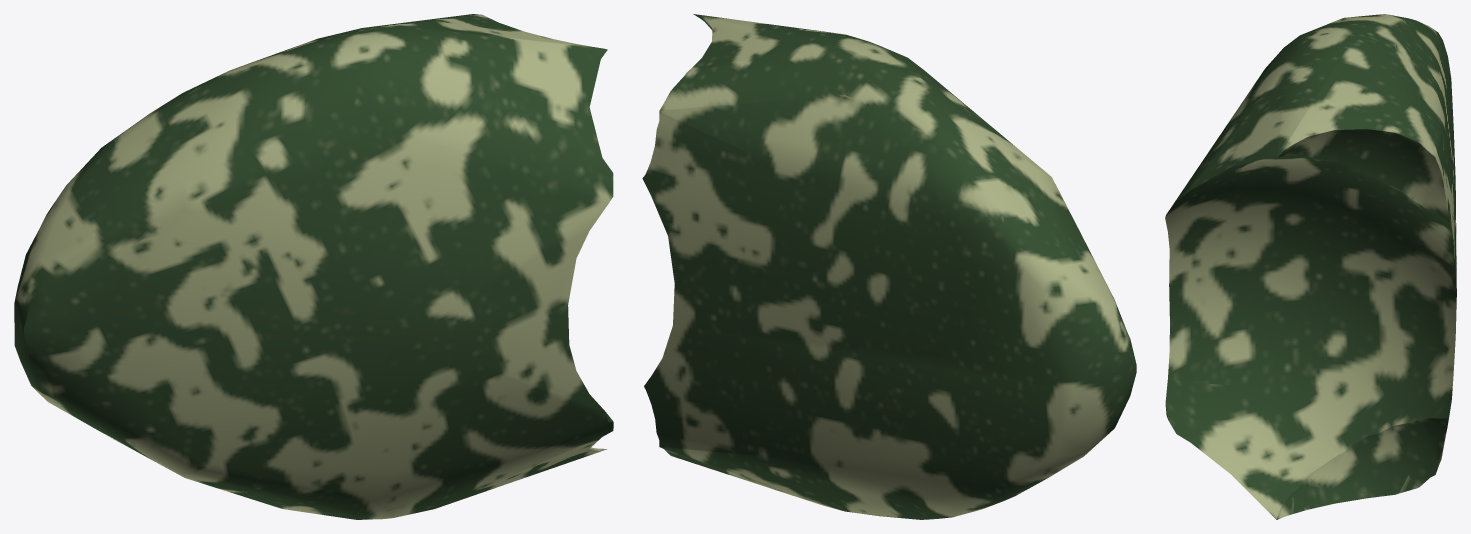
The model's file is link_body_00.obj.
3 views of the same model, side by side, from view 1: azimuth 30°, elevation 25°; view 2: azimuth 150°, elevation 25°; view 3: azimuth 270°, elevation 25° (orthographic). The views are drawn at different scales.
Visible parts, largest first — view 1: link_body_00; view 2: link_body_00; view 3: link_body_00.
Part boxes in pixels (box(x1,y1,x2,y2)): link_body_00: box(14, 14, 613, 519); link_body_00: box(642, 14, 1136, 519); link_body_00: box(1165, 14, 1456, 519).
Bounding box in the file's own units: 20.52 × 17.78 × 10.97.
